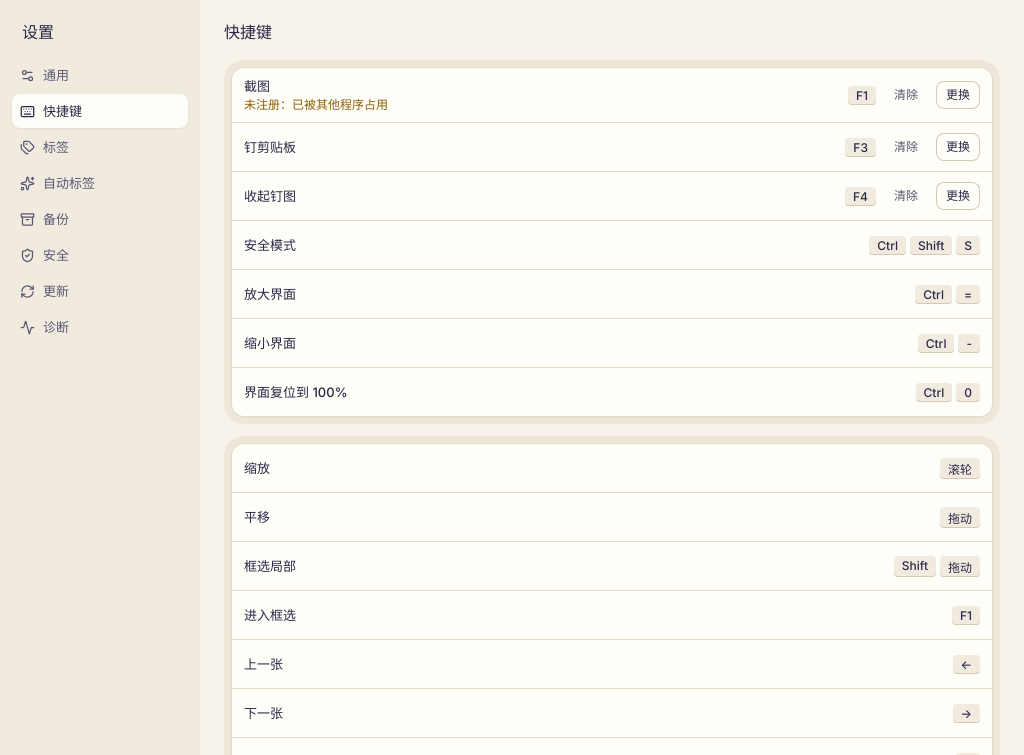
Test: 设置：常驻与快捷键 › 清除快捷键
Click the button "清除" next to "F3": x=906, y=147 [884,133,928,161]
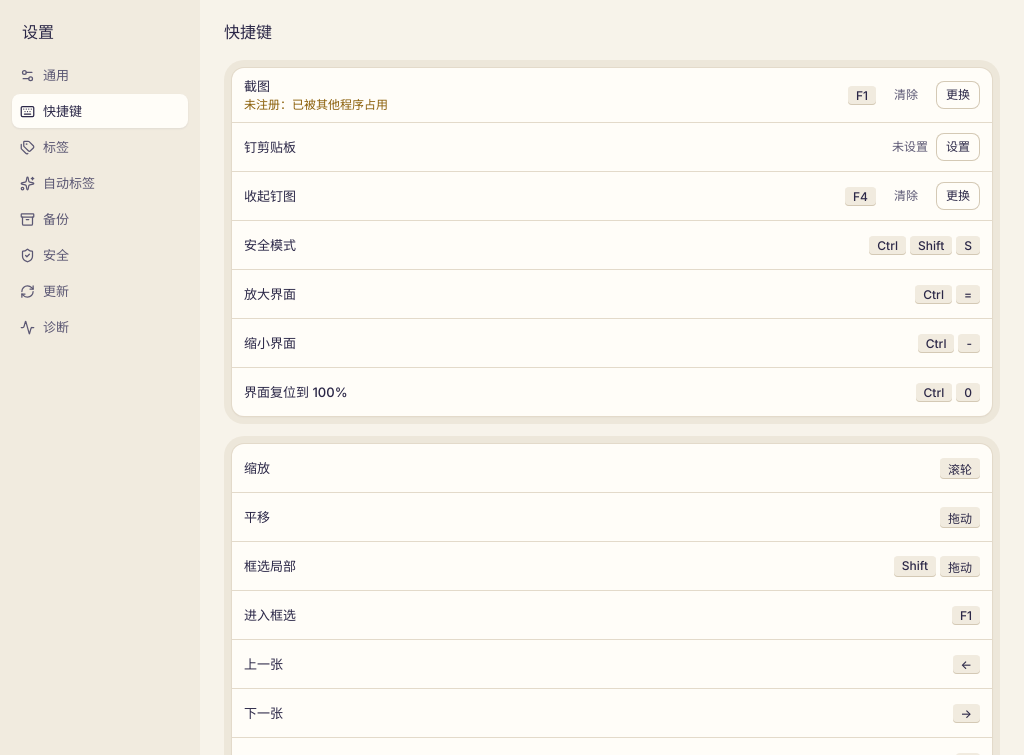
Expected: the text "未设置" is shown, [892,137,928,157]
Expected: the button "设置" is shown, [936,133,980,161]
